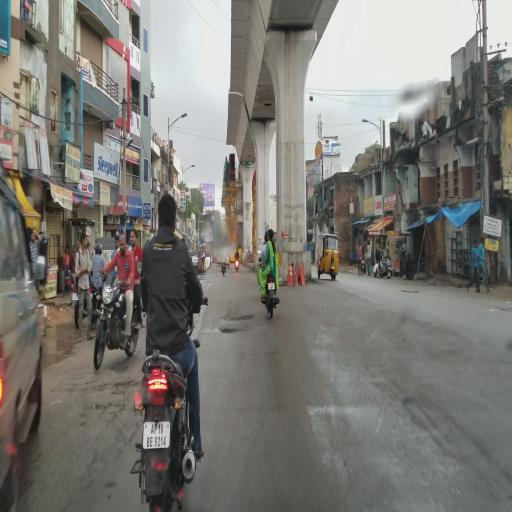street_light_0: (164, 103, 192, 133), (179, 156, 198, 180)
